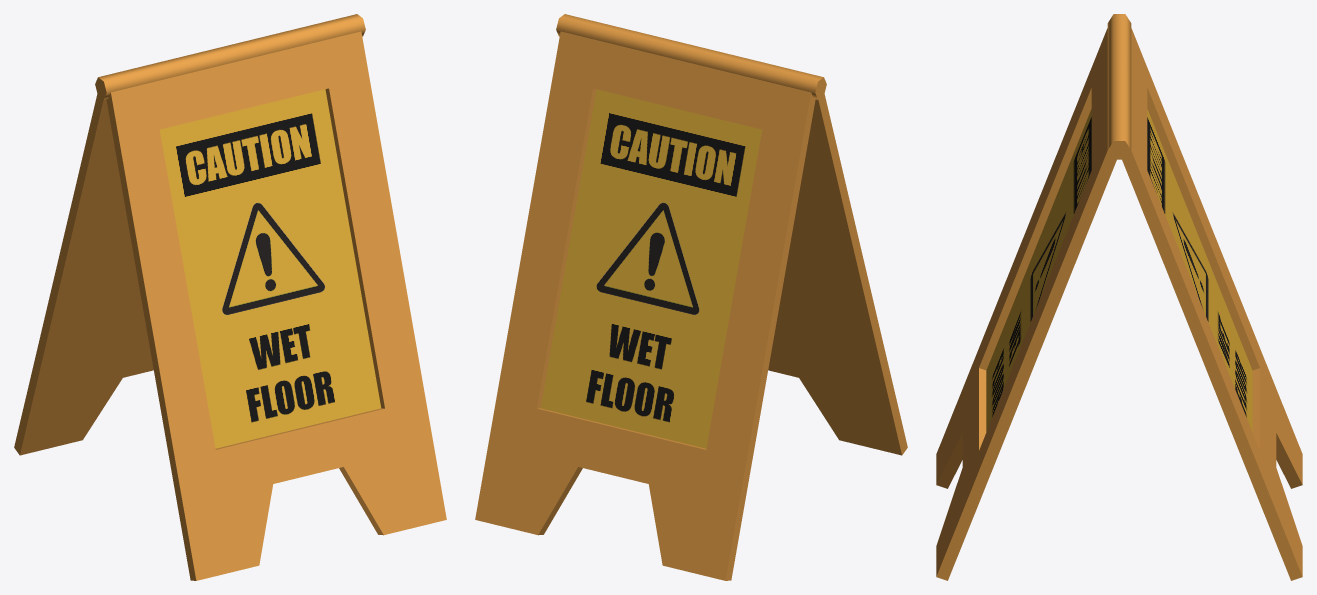
File: CautionSign_01.fbx
3 views of the same model, side by side, from view 1: azimuth 30°, elevation 25°; view 2: azimuth 150°, elevation 25°; view 3: azimuth 270°, elevation 25° (orthographic).
Visible parts, largest first — view 1: CautionSign_01; view 2: CautionSign_01; view 3: CautionSign_01.
Boxes of the visible parts, box(x1,y1,x2,y2) form: CautionSign_01: box(14, 14, 446, 580); CautionSign_01: box(475, 14, 907, 580); CautionSign_01: box(936, 14, 1302, 580).
Size of the model in its own units: 0.6009 by 0.9741 by 0.7319.
